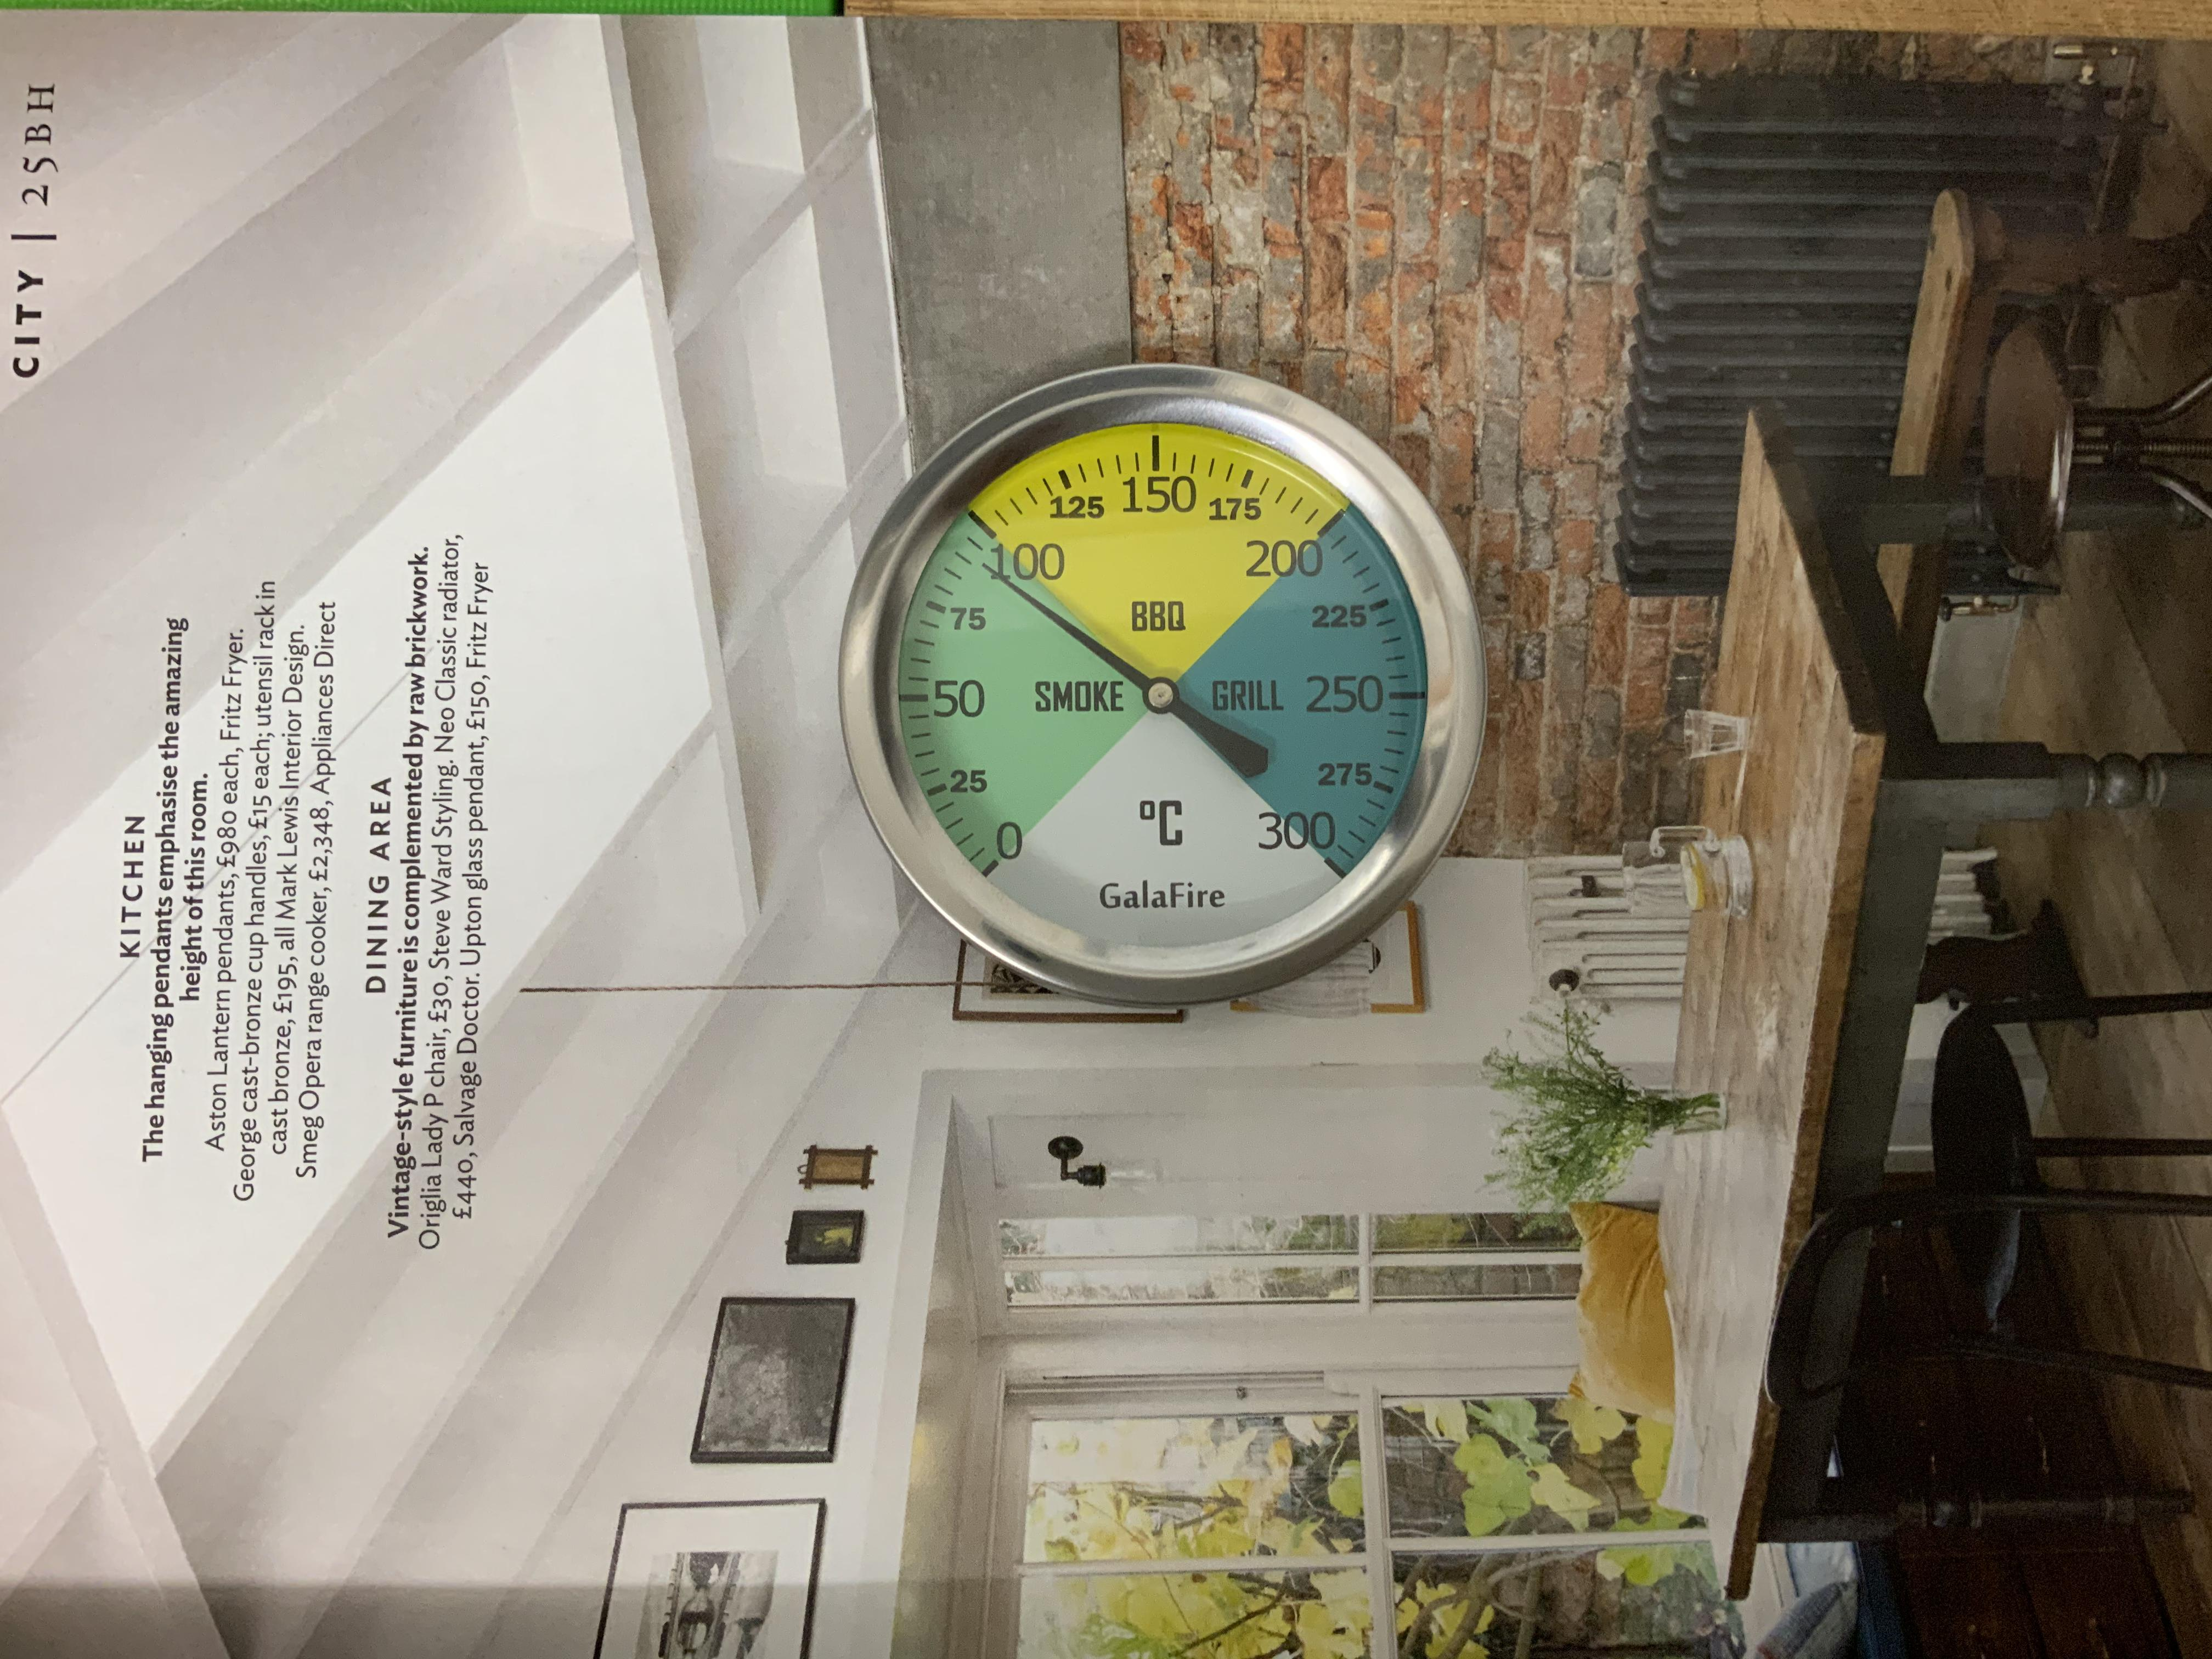gauge: (841, 359, 1494, 1004)
